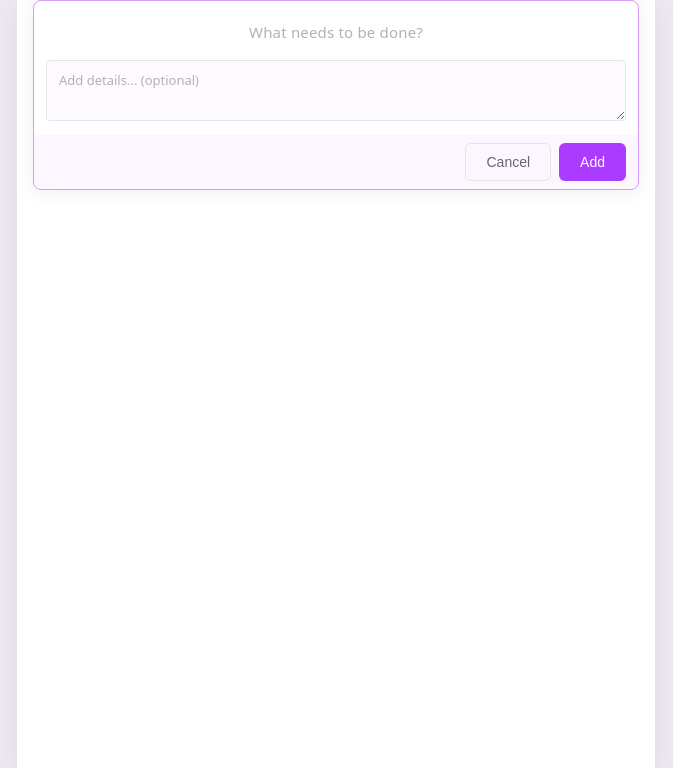
Test: AddTodoCard › when expandOnFocus is false (always expanded) › validation clearing › clears inline validation on next title input change
Click the button "Add". click: (593, 162)
box: [559,143,626,181]
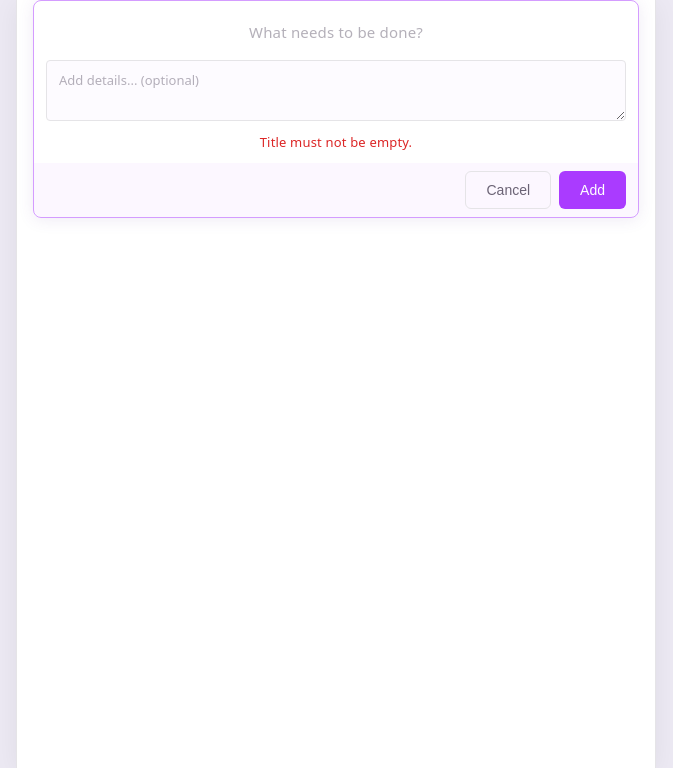
Expected: the text "Title must not be empty." is shown, [260,133,412,151]
Type "a" into the field named "New todo title". click: (336, 33)
box: [46,13,626,52]
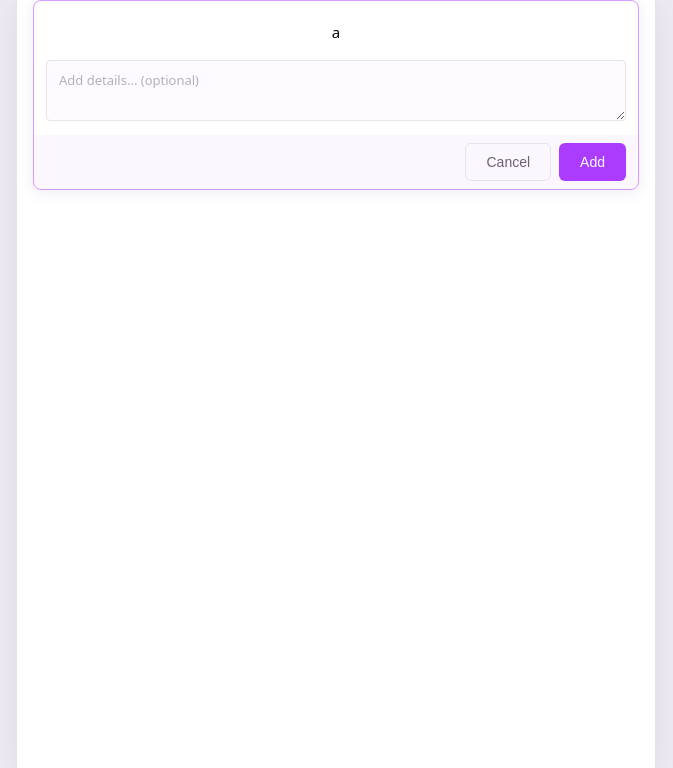
Expected: the text "Title must not be empty." is gone
